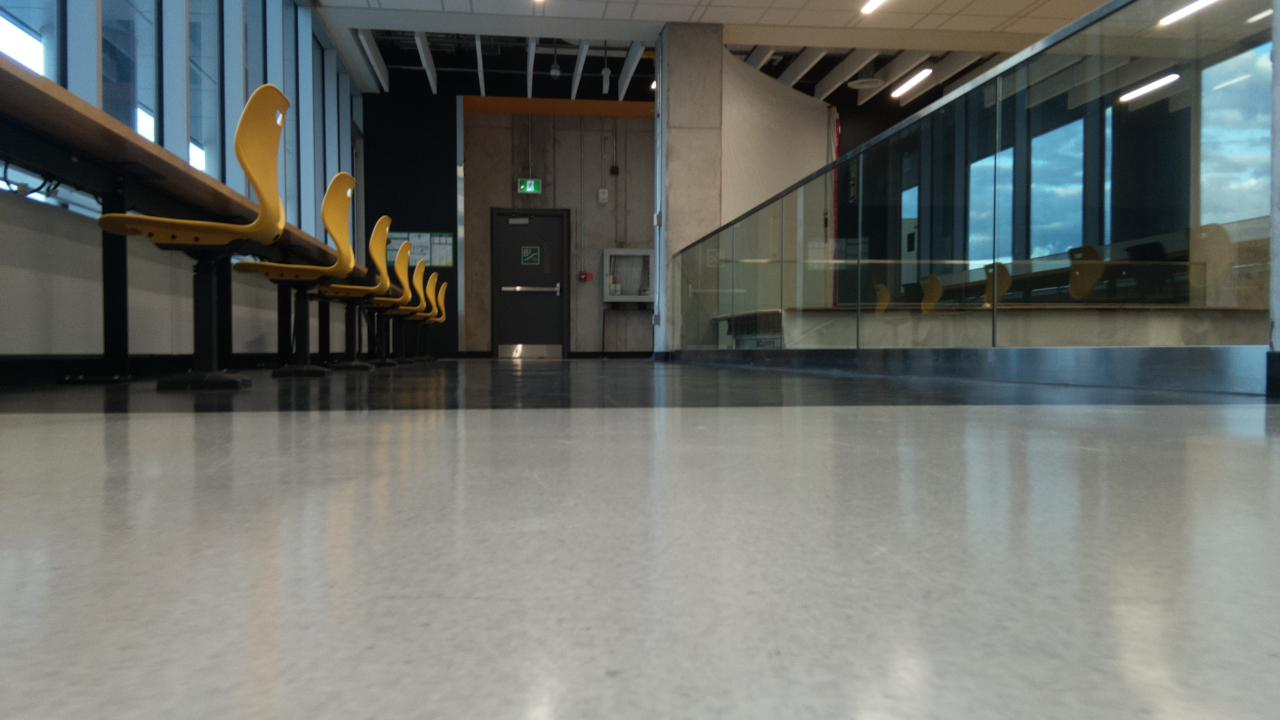door: (492, 208, 567, 358)
sign: (386, 233, 452, 265), (518, 178, 541, 192), (522, 246, 539, 264)
